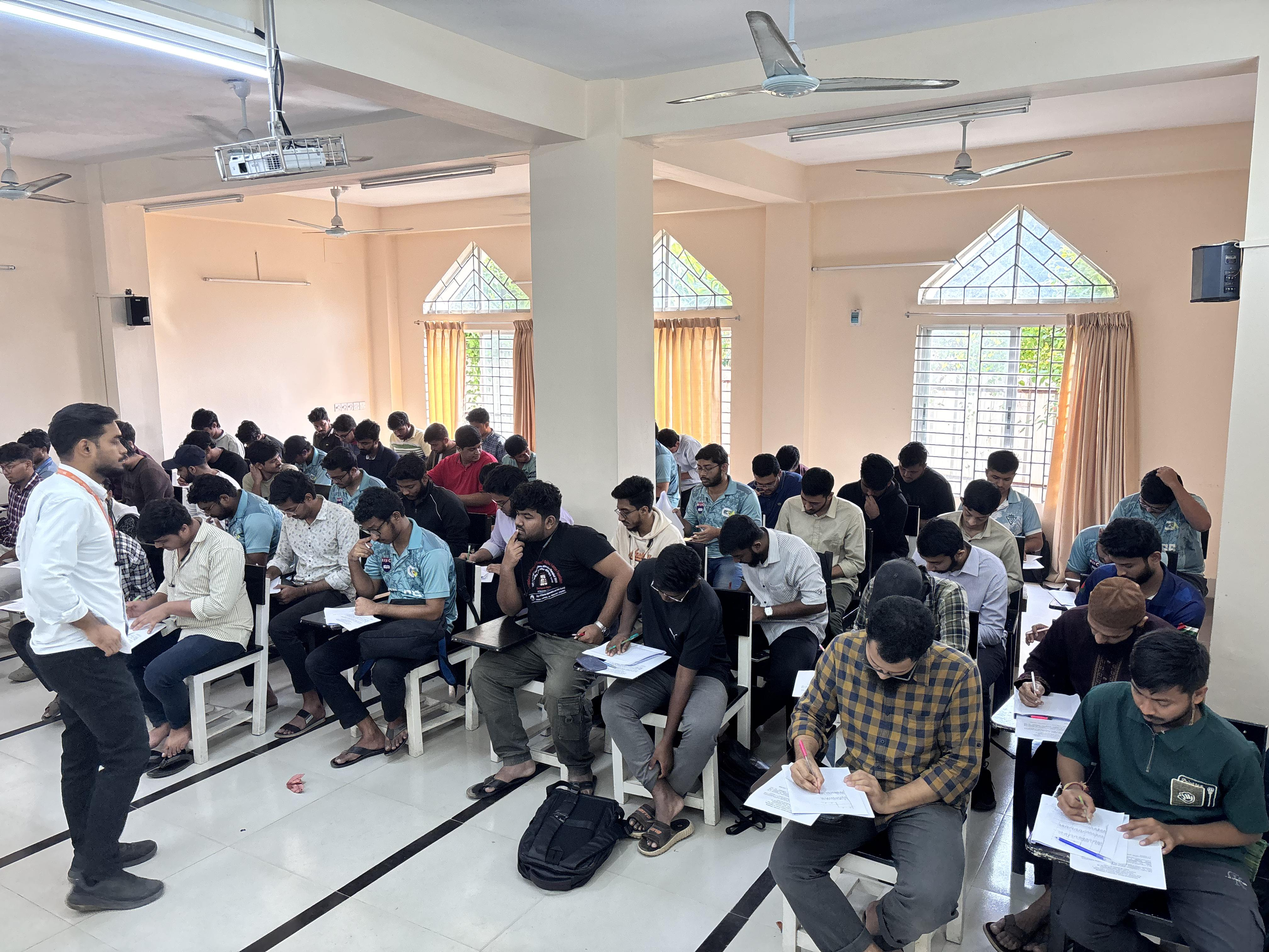copying: (440, 421, 496, 497), (158, 441, 223, 490), (498, 425, 539, 487)
invigilator: (24, 394, 176, 919)
no_cheating: (1019, 625, 1260, 952), (771, 597, 976, 937), (480, 472, 603, 728), (593, 535, 730, 743), (132, 490, 247, 695), (332, 484, 437, 676), (714, 510, 836, 647), (1038, 575, 1160, 700), (264, 468, 354, 628), (909, 511, 1011, 631), (179, 471, 273, 557), (777, 459, 854, 563), (1099, 522, 1190, 603), (1122, 457, 1214, 537), (942, 473, 1026, 560), (681, 439, 747, 545), (841, 440, 909, 540), (387, 448, 452, 536), (605, 473, 670, 560), (887, 429, 945, 522), (0, 435, 42, 536), (317, 446, 378, 511), (981, 445, 1040, 508), (740, 439, 794, 505), (383, 408, 426, 464), (354, 418, 389, 479), (419, 421, 453, 463), (333, 410, 358, 455)
side_talking: (243, 438, 292, 497)
suspicious_moving: (301, 402, 340, 448)
